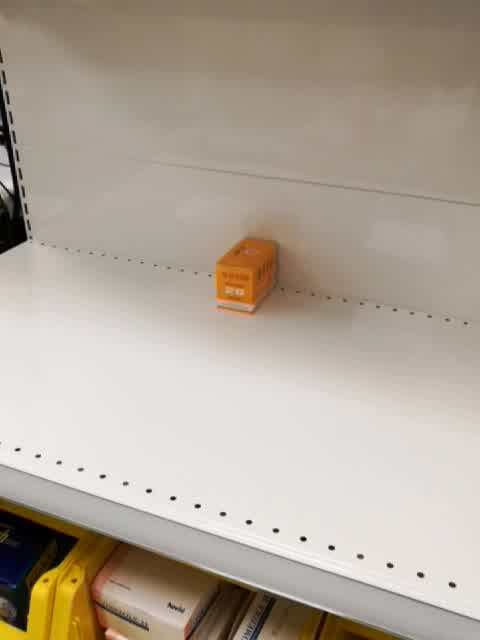jasminetea: (213, 238, 278, 316)
